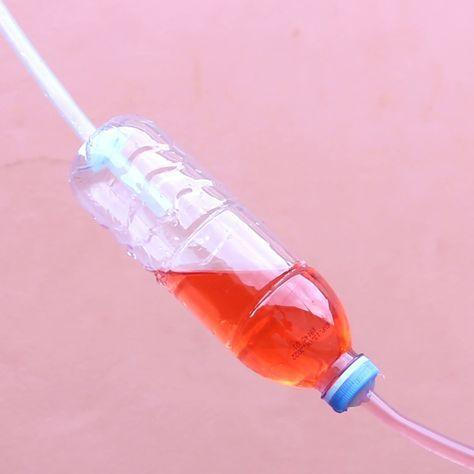PETE: (36, 94, 367, 381)
